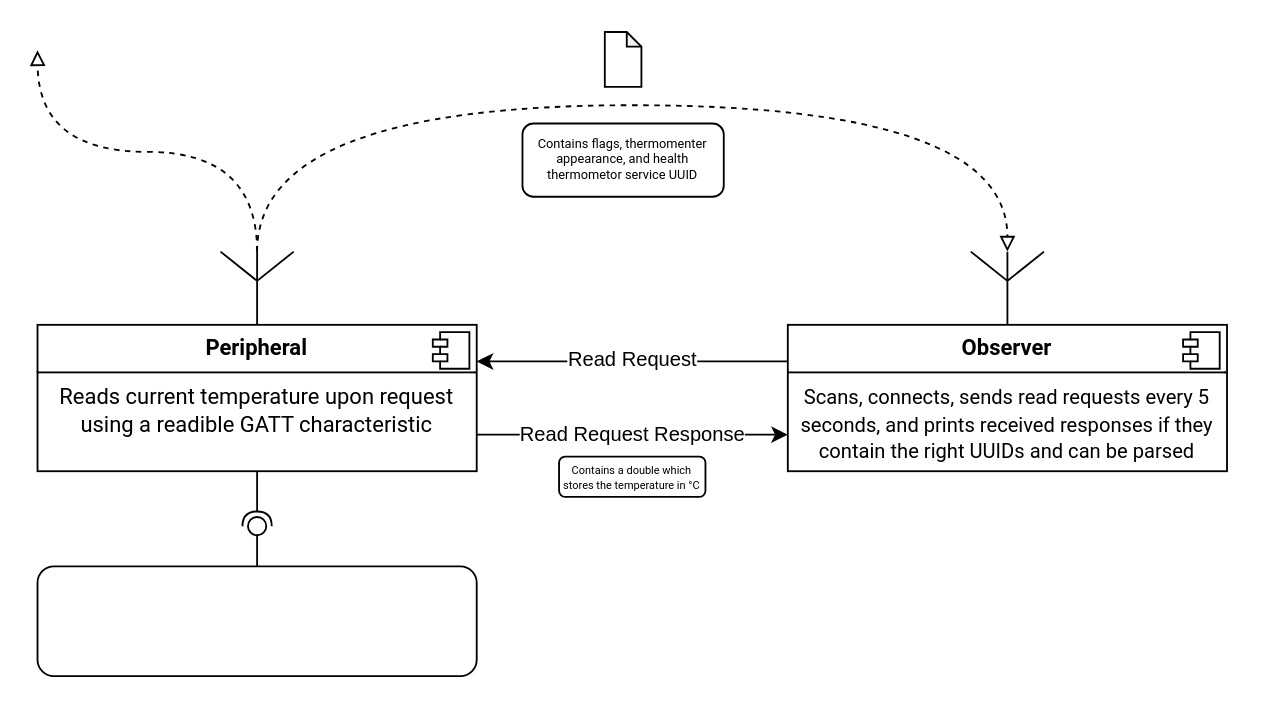
Some shapes in this 1261 by 708 pixel diagram are drawn without their labels. The shapes that lost their labels are listed below. From the top down, each one's box as (x1, y1, x2, y2) in pixels, then its label:
(603, 30, 641, 87): Ad
(36, 565, 477, 676): Simulated Temperature Sensor 3 Variants
